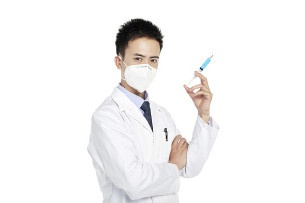Mask: (123, 51, 159, 88)
